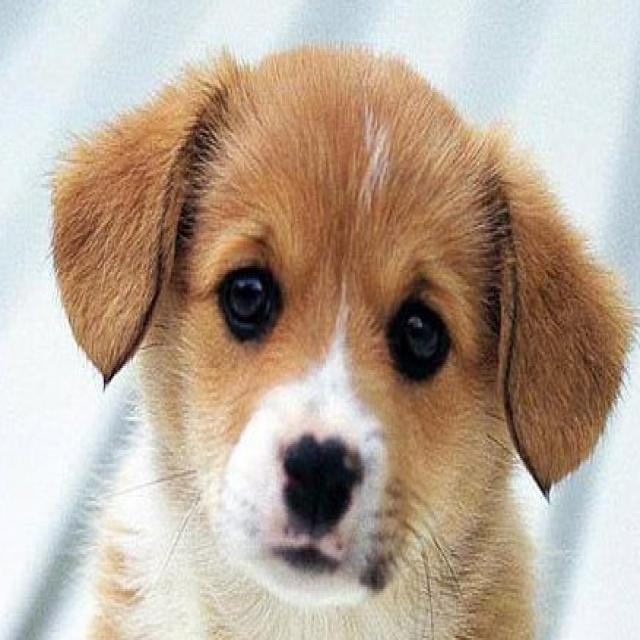eye: (386, 291, 450, 376), (215, 261, 280, 337)
